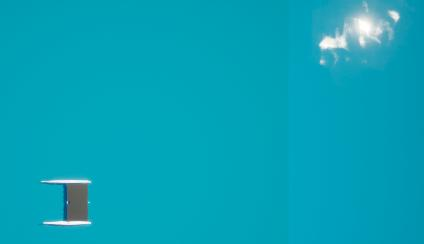boat: (41, 178, 93, 226)
drone: (68, 184, 88, 221)
land_base: (296, 1, 424, 75)
